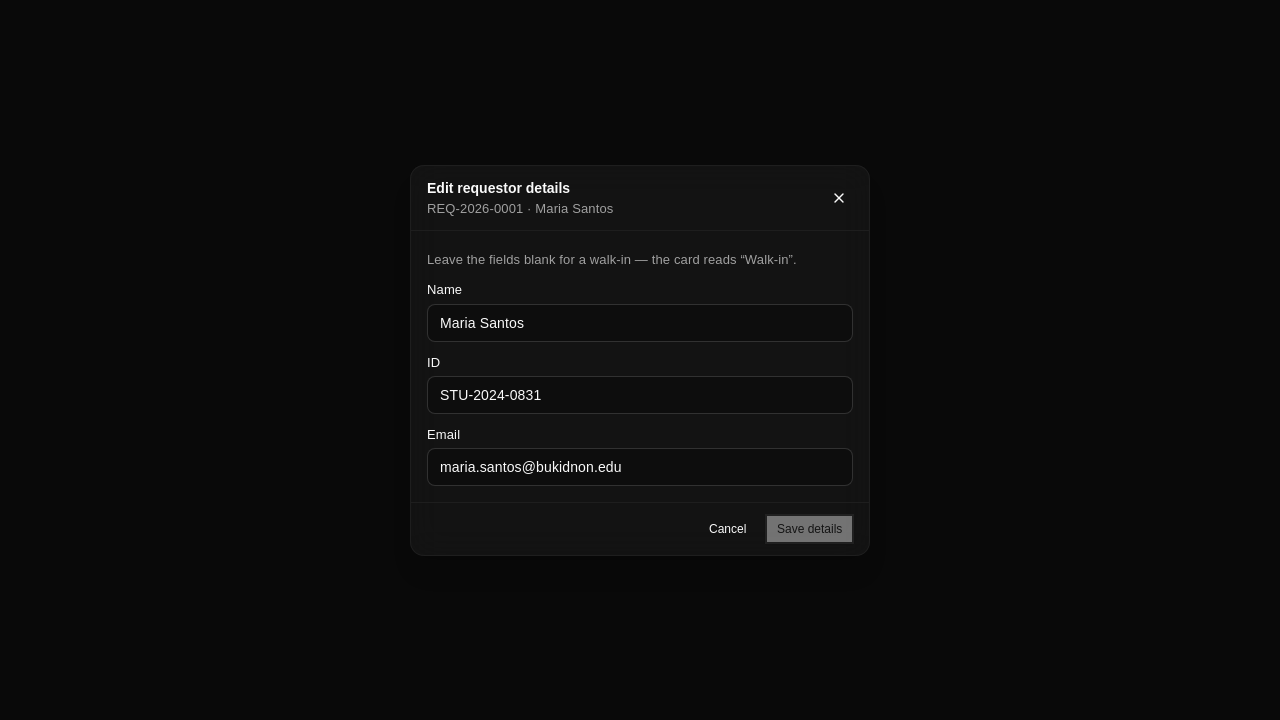
Test: EditRequestorModal › blocks a malformed email and reports why
Replace the text in the field with placeholder "name@example.edu" with "nope" at (640, 466), box [427,448,853,486]
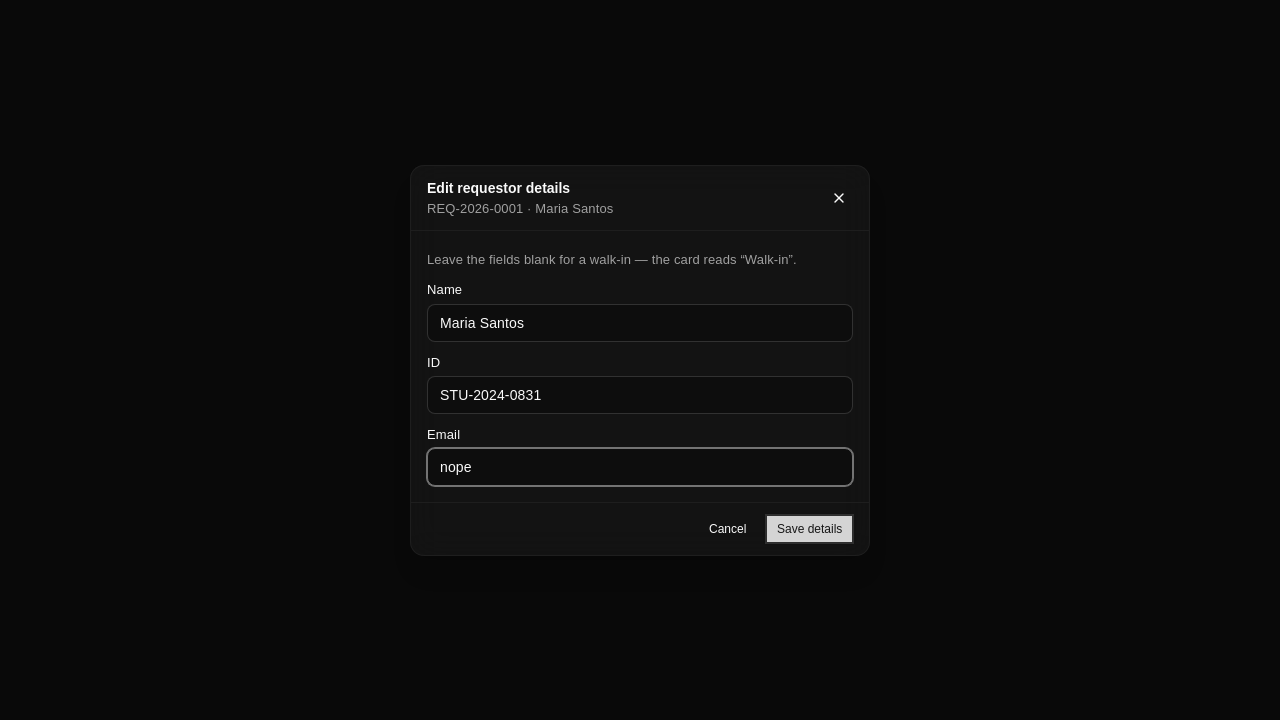
Click the button "Save details".
click(809, 528)  # box [766,514,853,542]
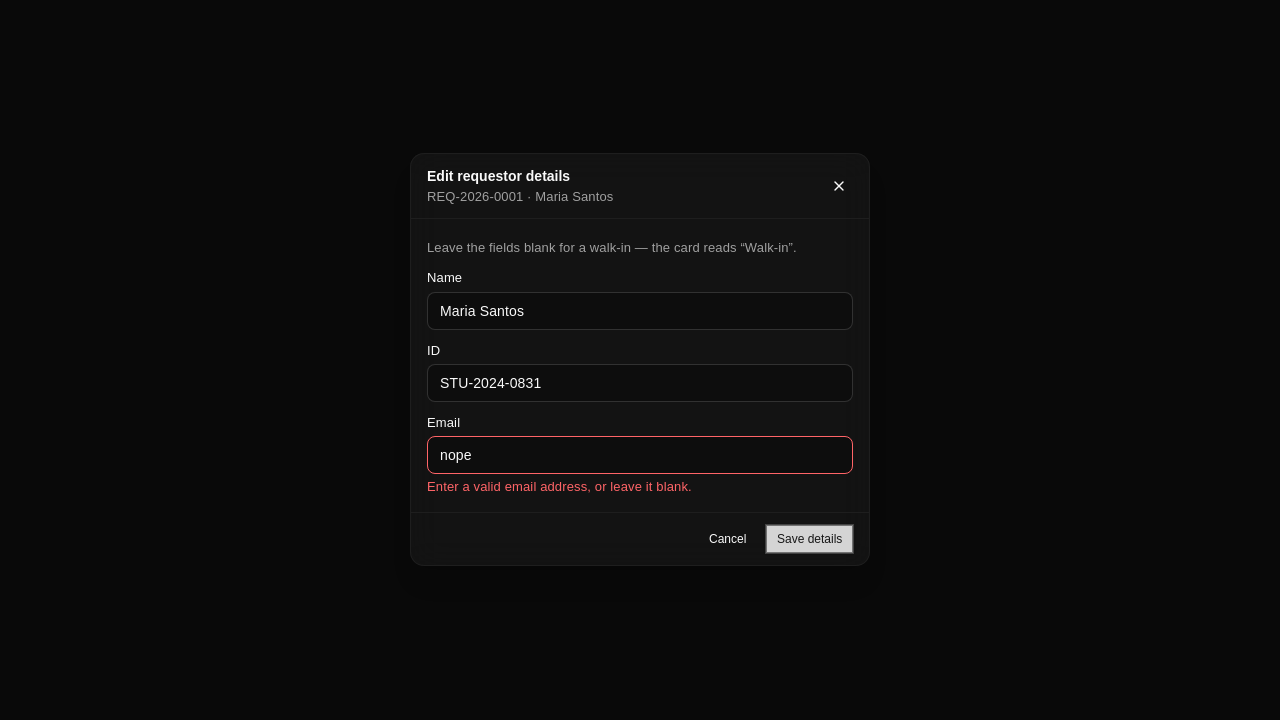
Check: the message shows "valid email", box [427,479,692,494]
